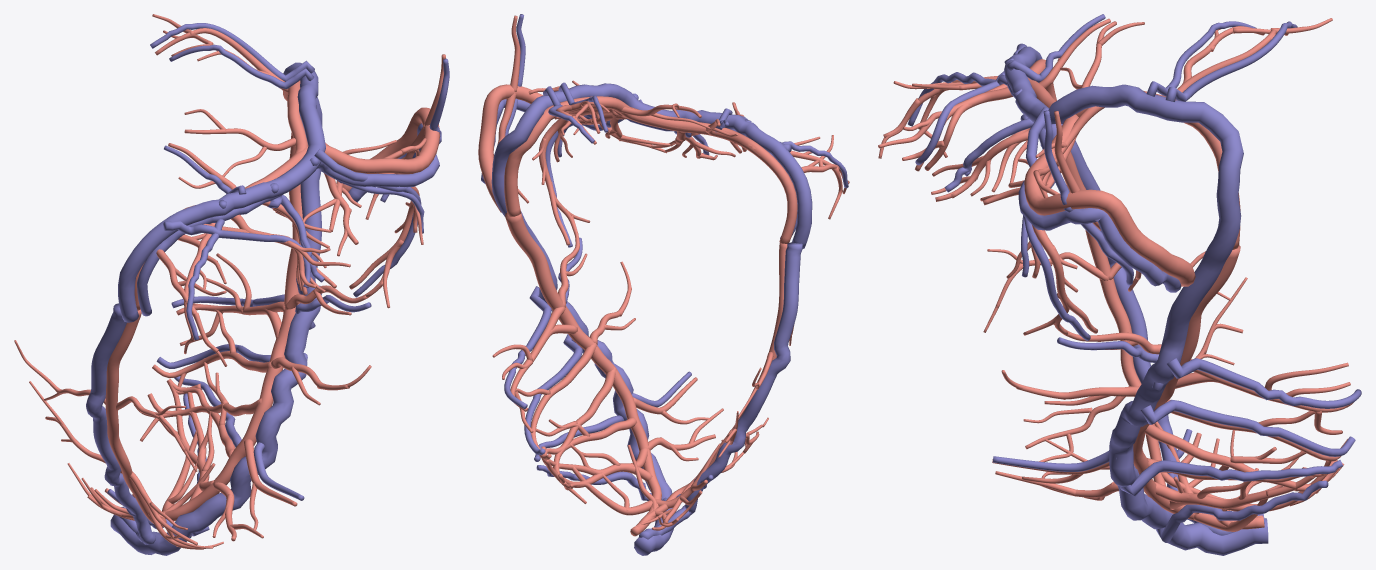
Rendered from vessels_3.glb.
3 renders of one model, left to right at view 1: azimuth 30°, elevation 25°; view 2: azimuth 150°, elevation 25°; view 3: azimuth 270°, elevation 25°, orthographic. The views are drawn at different scales.
Parts seen in each view (by area): view 1: Renderer Node; view 2: Renderer Node; view 3: Renderer Node.
Part boxes in pixels (x1,y1,x2,y2): Renderer Node: [14, 14, 449, 555]; Renderer Node: [478, 14, 849, 555]; Renderer Node: [878, 14, 1361, 555].
Bounding box in the file's own units: 89.98 × 117 × 89.21.
